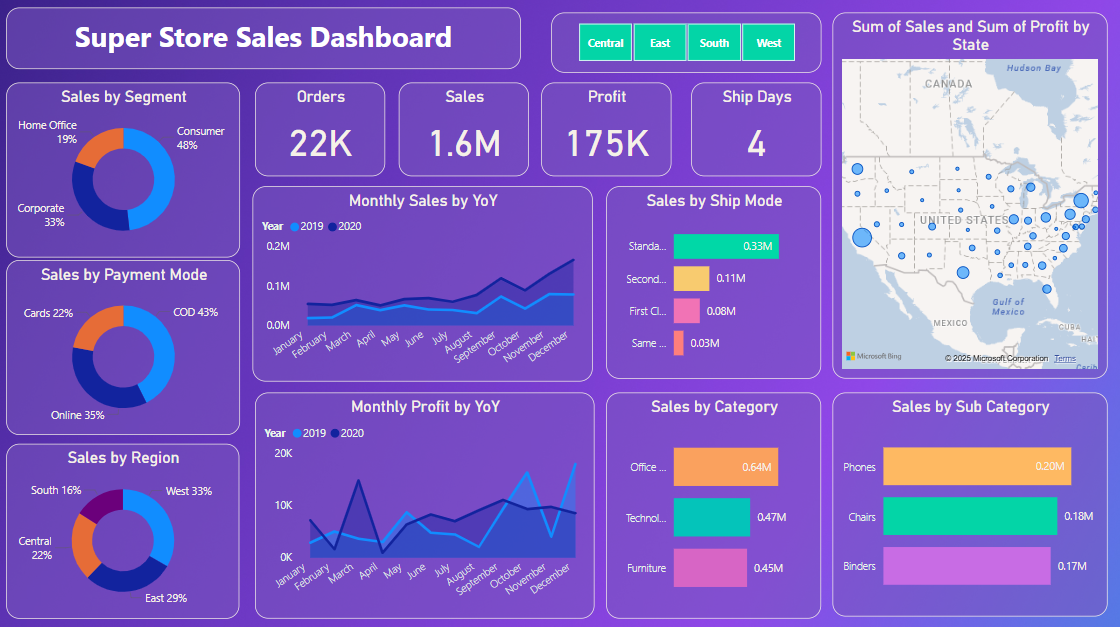

The page's visual inventory and layout, read from the dashboard file:
{"tool":"powerbi","page":{"name":"Super Store Sales ","canvas":[1280,720],"ordinal":0},"visuals":[{"type":"clusteredBarChart","title":"Sales by Category","fields":{"Category":["SuperStore_Sales_Dataset.Category"],"Y":["Sum(SuperStore_Sales_Dataset.Sales)"]},"box":[692.5,450,246.2,252.5],"z":0},{"type":"clusteredBarChart","title":"Sales by Sub Category","fields":{"Category":["SuperStore_Sales_Dataset.Sub-Category"],"Y":["Sum(SuperStore_Sales_Dataset.Sales)"]},"box":[951.4,448.6,314.3,255.7],"z":1000},{"type":"clusteredBarChart","title":"Sales by Ship Mode","fields":{"Category":["SuperStore_Sales_Dataset.Ship Mode"],"Y":["Sum(SuperStore_Sales_Dataset.Sales)"]},"box":[692.9,214.3,246,220.6],"z":2000},{"type":"areaChart","title":"Monthly Sales by YoY","fields":{"Y":["Sum(SuperStore_Sales_Dataset.Sales)"],"Category":["SuperStore_Sales_Dataset.Order Date.Variation.Date Hierarchy.Month"],"Series":["SuperStore_Sales_Dataset.Order Date.Variation.Date Hierarchy.Year"]},"box":[289.1,213.4,388.6,222.9],"z":3000},{"type":"areaChart","title":"Monthly Profit by YoY","fields":{"Category":["SuperStore_Sales_Dataset.Order Date.Variation.Date Hierarchy.Month"],"Series":["SuperStore_Sales_Dataset.Order Date.Variation.Date Hierarchy.Year"],"Y":["Sum(SuperStore_Sales_Dataset.Profit)"]},"box":[291.4,448.6,388,258.6],"z":4000},{"type":"map","fields":{"Category":["SuperStore_Sales_Dataset.State"],"Size":["Sum(SuperStore_Sales_Dataset.Sales)"]},"box":[951.4,14.3,314.3,418.6],"z":5000},{"type":"donutChart","title":"Sales by Segment","fields":{"Category":["SuperStore_Sales_Dataset.Segment"],"Y":["Sum(SuperStore_Sales_Dataset.Sales)"]},"box":[7.5,93.8,267.5,200],"z":6000},{"type":"donutChart","title":"Sales by Payment Mode","fields":{"Y":["Sum(SuperStore_Sales_Dataset.Sales)"],"Category":["SuperStore_Sales_Dataset.Payment Mode"]},"box":[7.5,297.5,267.5,200],"z":7000},{"type":"donutChart","title":"Sales by Region","fields":{"Y":["Sum(SuperStore_Sales_Dataset.Sales)"],"Category":["SuperStore_Sales_Dataset.Region"]},"box":[7.5,507.5,266.2,200],"z":8000},{"type":"slicer","fields":{"Values":["SuperStore_Sales_Dataset.Region"]},"box":[630,14.3,308.6,68.6],"z":9000},{"type":"textbox","box":[7.1,8.6,588.3,70],"z":10000},{"type":"card","title":"Sales","fields":{"Values":["Sum(SuperStore_Sales_Dataset.Sales)"]},"box":[456.2,93.8,148.8,107.5],"z":11000},{"type":"card","title":"Orders","fields":{"Values":["Sum(SuperStore_Sales_Dataset.Quantity)"]},"box":[291.2,93.8,148.8,107.5],"z":12000},{"type":"card","title":"Profit","fields":{"Values":["Sum(SuperStore_Sales_Dataset.Profit)"]},"box":[618.6,94.3,148.6,107.1],"z":13000},{"type":"card","title":"Ship Days","fields":{"Values":["Avg(SuperStore_Sales_Dataset.AvgDelivery)"]},"box":[790,93.8,148.8,107.5],"z":14000}]}

Visuals, with their boxes in screenshot pixels (x1, y1, x2, y2), scaled from the page's 1280x720 canvas onto the 1120x627 screenshot:
"Sales by Category" clusteredBarChart: <box>606,392,821,612</box>
"Sales by Sub Category" clusteredBarChart: <box>832,391,1107,613</box>
"Sales by Ship Mode" clusteredBarChart: <box>606,187,822,379</box>
"Monthly Sales by YoY" areaChart: <box>253,186,593,380</box>
"Monthly Profit by YoY" areaChart: <box>255,391,594,616</box>
map - SuperStore_Sales_Dataset.State x Sum(SuperStore_Sales_Dataset.Sales): <box>832,12,1107,377</box>
"Sales by Segment" donutChart: <box>7,82,241,256</box>
"Sales by Payment Mode" donutChart: <box>7,259,241,433</box>
"Sales by Region" donutChart: <box>7,442,239,616</box>
slicer - SuperStore_Sales_Dataset.Region: <box>551,12,821,72</box>
textbox: <box>6,7,521,68</box>
"Sales" card: <box>399,82,529,175</box>
"Orders" card: <box>255,82,385,175</box>
"Profit" card: <box>541,82,671,175</box>
"Ship Days" card: <box>691,82,821,175</box>
